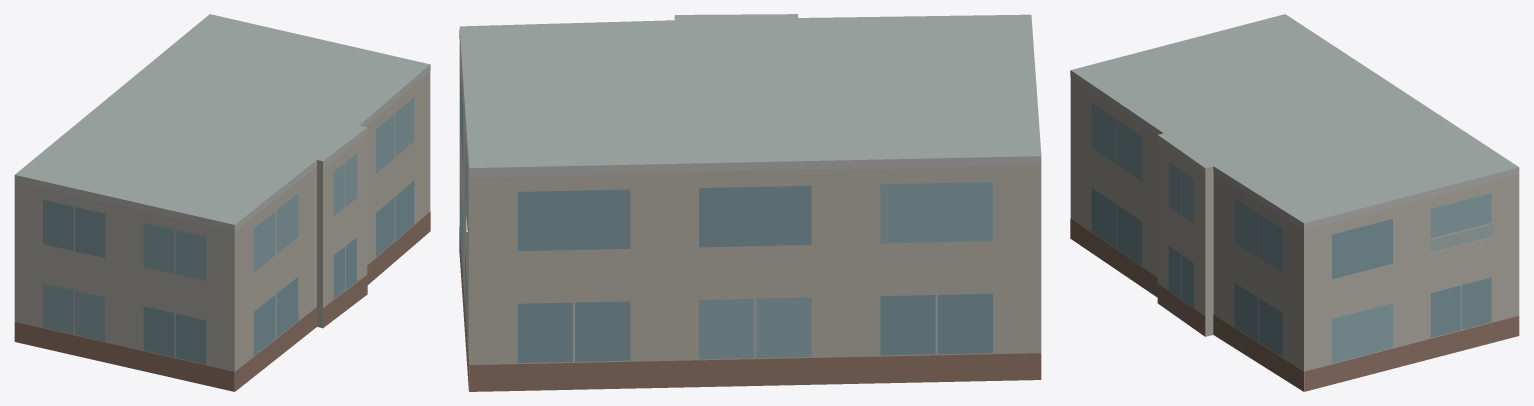
Rendered from survey-upis-32992968.glb.
The picture shows the model from 3 angles, left to right: view 1: azimuth 30°, elevation 25°; view 2: azimuth 150°, elevation 25°; view 3: azimuth 270°, elevation 25°; orthographic projection. The views are drawn at different scales.
Parts seen in each view (by area): view 1: survey-upis-32992968.tmp; view 2: survey-upis-32992968.tmp; view 3: survey-upis-32992968.tmp.
Boxes of the visible parts, <box> form: survey-upis-32992968.tmp: <box>14,14,430,391</box>; survey-upis-32992968.tmp: <box>459,14,1041,391</box>; survey-upis-32992968.tmp: <box>1070,14,1519,391</box>.
Size of the model in its own units: 16.26 by 6.1 by 14.73.
